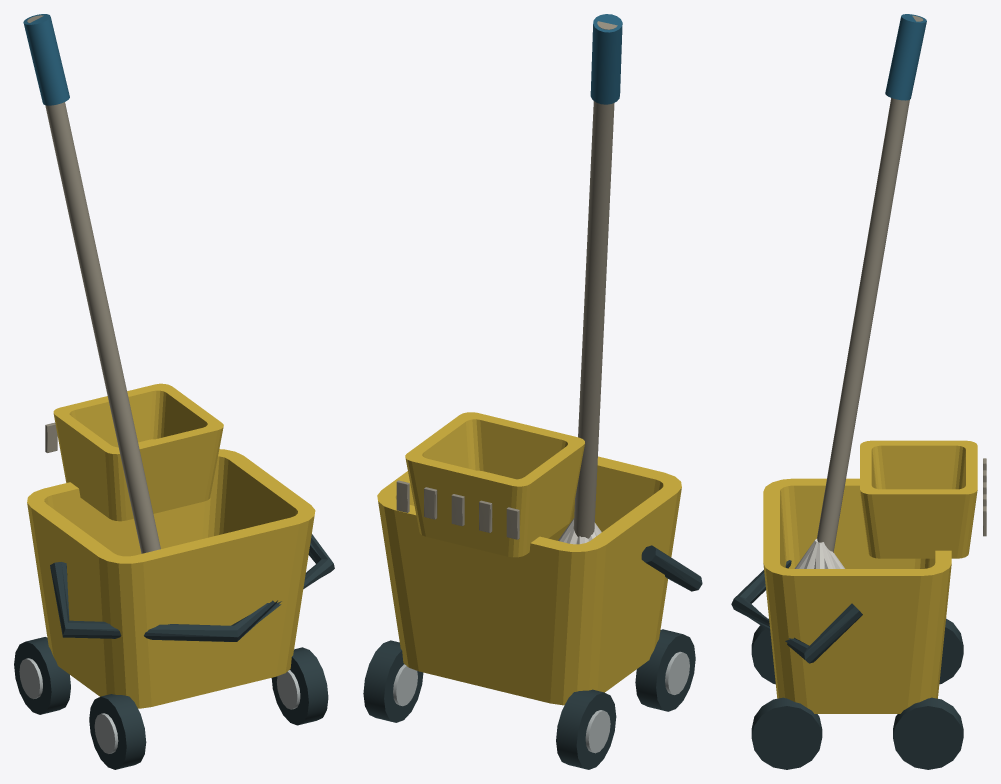
The model's file is 10_starter_mop_bucket.glb.
3 views of the same model, side by side, from view 1: azimuth 30°, elevation 25°; view 2: azimuth 150°, elevation 25°; view 3: azimuth 270°, elevation 25° (orthographic). The views are drawn at different scales.
Parts seen in each view (by area): view 1: 10_starter_mop_bucket__Static; view 2: 10_starter_mop_bucket__Static; view 3: 10_starter_mop_bucket__Static.
Boxes of the visible parts, x1,y1,x2,y2 form: 10_starter_mop_bucket__Static: (14,14,334,769); 10_starter_mop_bucket__Static: (363,14,702,769); 10_starter_mop_bucket__Static: (731,14,986,769).
Bounding box in the file's own units: 0.6261 × 1.55 × 0.542.
